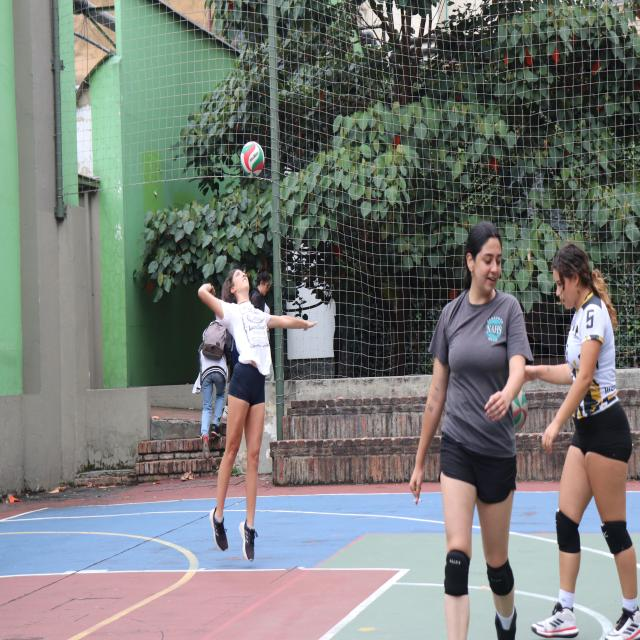volleyball: (240, 142, 265, 178), (512, 389, 528, 432)
